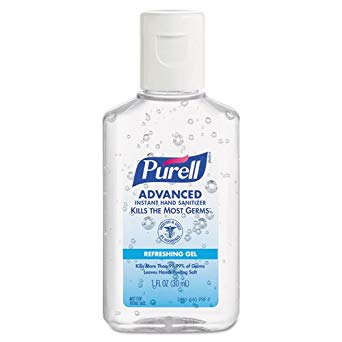Sanitizer: (96, 5, 246, 336)
